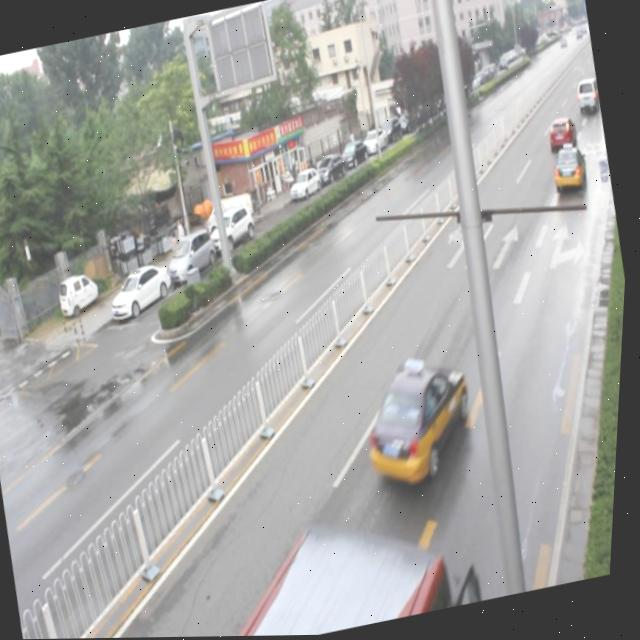car: (356, 347, 486, 487), (547, 139, 590, 199), (545, 117, 579, 154)
van: (205, 491, 484, 637)
